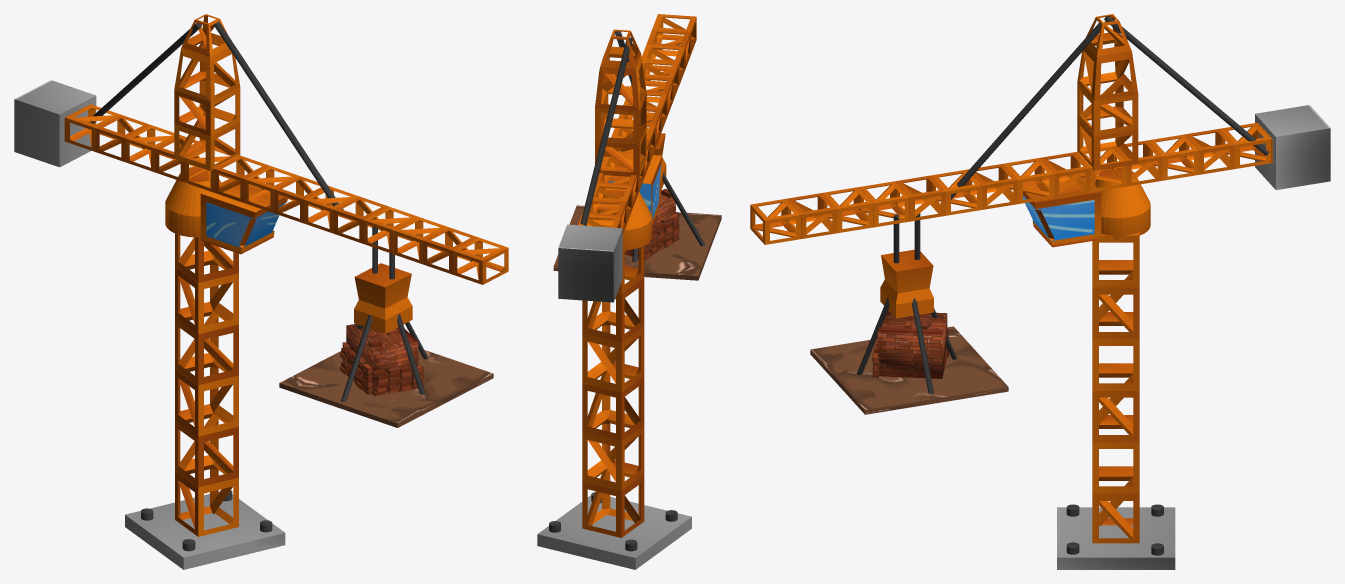
Rendered from Crane.fbx.
3 renders of one model, left to right at view 1: azimuth 30°, elevation 25°; view 2: azimuth 150°, elevation 25°; view 3: azimuth 270°, elevation 25°, orthographic. The views are drawn at different scales.
Visible parts, largest first — view 1: Cube.160, Cube.153, Cube.155, Cube.174, Cylinder.022; view 2: Cube.160, Cube.153, Cube.155, Cube.174, Cylinder.027, Cylinder.022; view 3: Cube.160, Cube.153, Cube.155, Cube.174, Cylinder.022.
Boxes of the visible parts, x1,y1,x2,y2 form: Cube.160: (14,14,508,284); Cube.153: (125,233,285,569); Cube.155: (279,350,493,427); Cube.174: (340,323,423,396); Cylinder.022: (354,226,412,333); Cube.160: (558,14,696,302); Cube.153: (537,246,691,569); Cube.155: (553,205,721,280); Cube.174: (624,188,679,260); Cylinder.027: (662,173,705,245); Cylinder.022: (620,111,666,193); Cube.160: (750,14,1330,247); Cube.153: (1057,232,1175,569); Cube.155: (810,326,1008,414); Cube.174: (872,310,949,378); Cylinder.022: (880,213,933,318).
Size of the model in its own units: 9228 by 17731 by 17772.
